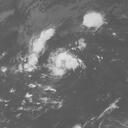cyclone: (47, 48, 84, 79)
